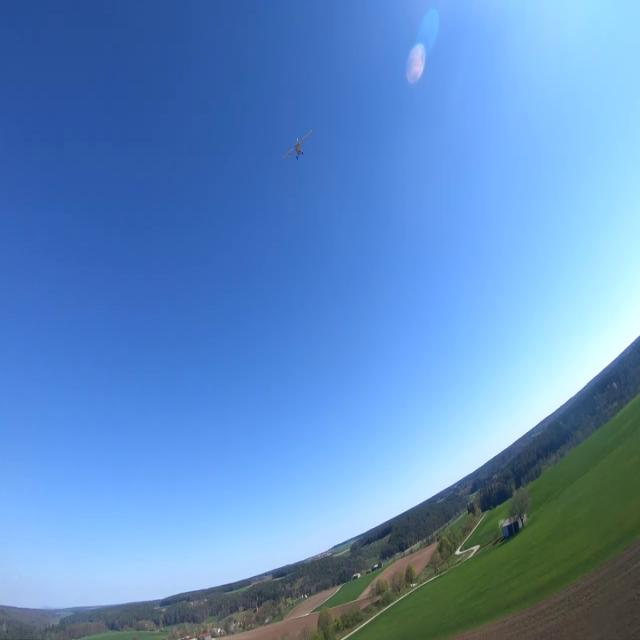iha: (280, 130, 317, 167)
